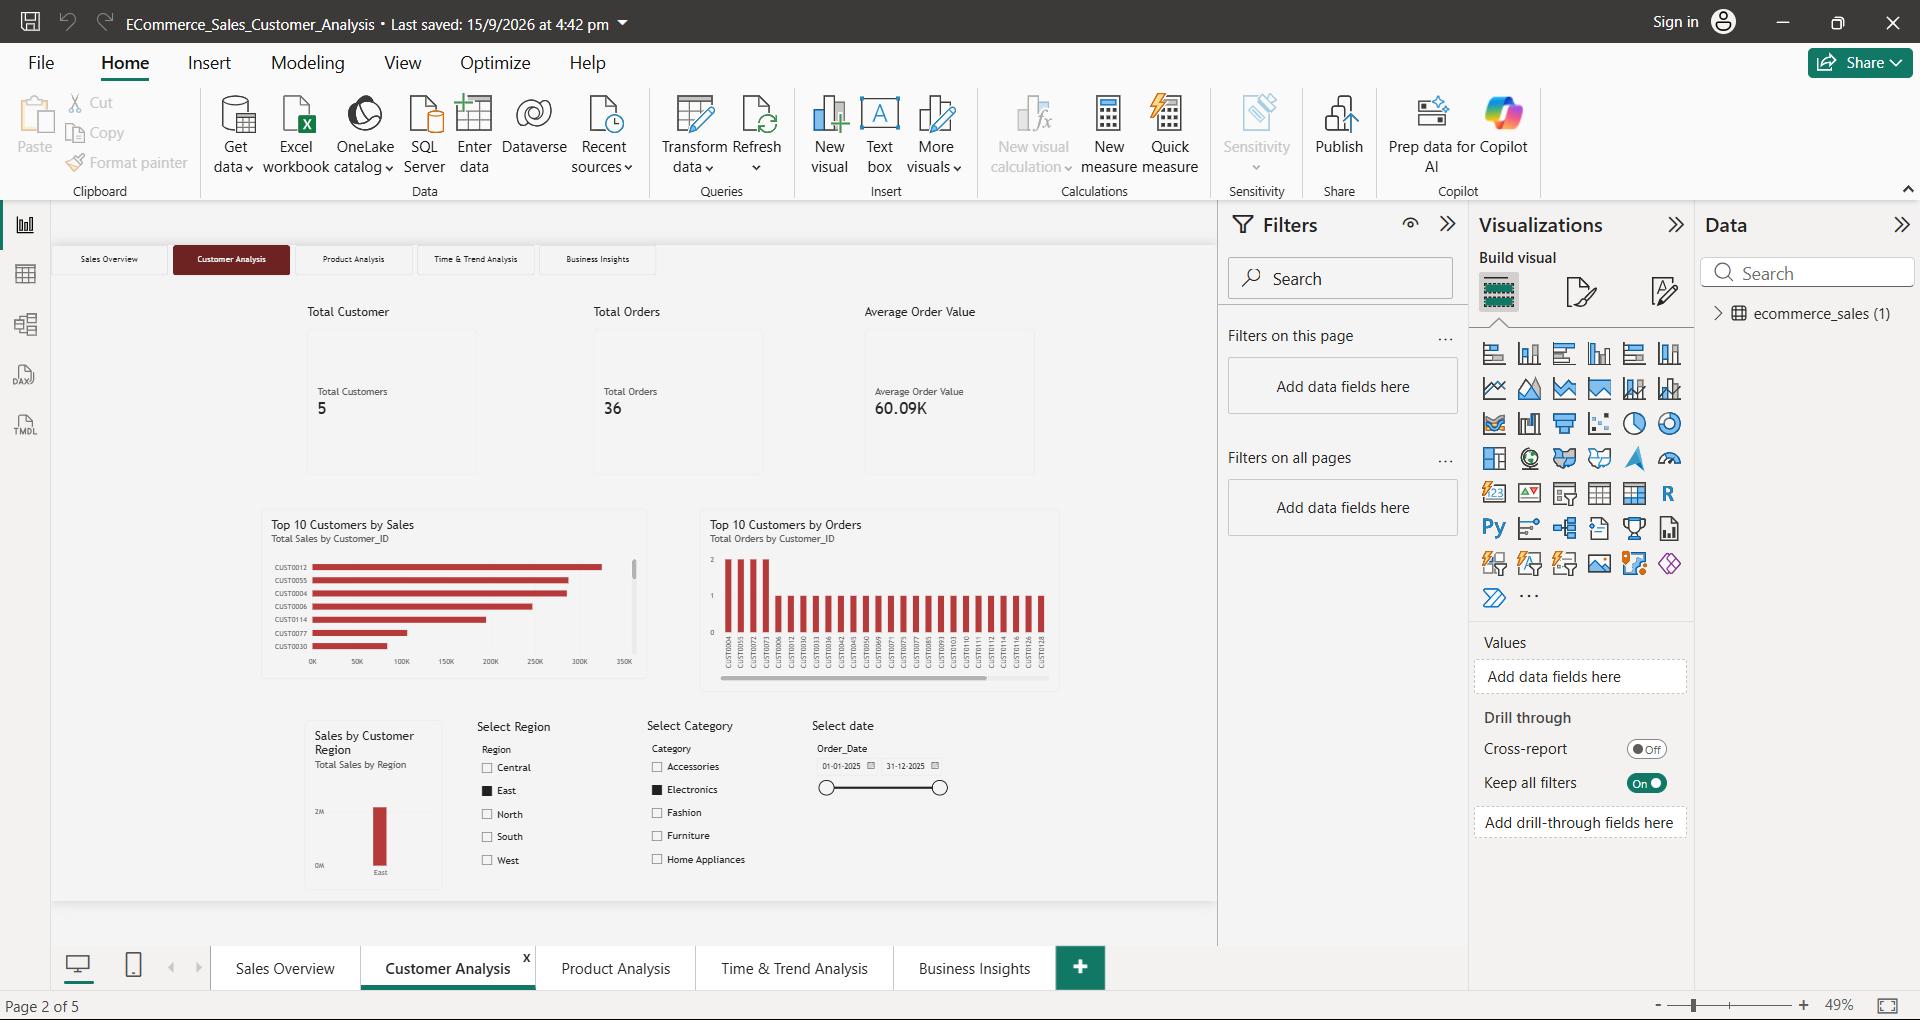

The dashboard page shown, as its layout file describes it:
{"tool":"powerbi","page":{"name":"Customer Analysis","canvas":[1920,1080],"ordinal":1},"visuals":[{"type":"cardVisual","title":"Total Customer ","fields":{"Data":["ecommerce_sales (1).Total Customers"]},"box":[421.2,98.4,280,280],"z":0},{"type":"cardVisual","title":"Total Orders","fields":{"Data":["ecommerce_sales (1).Total Orders"]},"box":[893.7,98.4,280,280],"z":1000},{"type":"cardVisual","title":"Average Order Value","fields":{"Data":["ecommerce_sales (1).Average Order Value"]},"box":[1340.6,98.4,280,280],"z":2000},{"type":"barChart","title":"Top 10 Customers by Sales","fields":{"Category":["ecommerce_sales (1).Customer_ID"],"Y":["ecommerce_sales (1).Total Sales"]},"box":[346.4,434,636,279.9],"z":3000},{"type":"clusteredColumnChart","title":"Top 10 Customers by Orders","fields":{"Category":["ecommerce_sales (1).Customer_ID"],"Y":["ecommerce_sales (1).Total Orders"]},"box":[1069,434,592.8,300.5],"z":4000},{"type":"clusteredColumnChart","title":"Sales by Customer Region","fields":{"Category":["ecommerce_sales (1).Region"],"Y":["ecommerce_sales (1).Total Sales"]},"box":[416.9,782.5,226,280],"z":5000},{"type":"slicer","title":"Select Region","fields":{"Values":["ecommerce_sales (1).Region"]},"box":[701.3,782.5,226,280],"z":6000},{"type":"slicer","title":"Select Category","fields":{"Values":["ecommerce_sales (1).Category"]},"box":[981.4,780.4,226,280],"z":7000},{"type":"slicer","title":"Select date","fields":{"Values":["ecommerce_sales (1).Order_Date"]},"box":[1252.9,780.4,226,280],"z":8000},{"type":"pageNavigator","box":[0,0,1000,50],"z":8001}]}

Visuals, with their boxes on the page's 1920x1080 design canvas (x1, y1, x2, y2). These are canvas units, not pixel positions in the 1920x1020 screenshot, which may show the page scaled, cropped or inside an application window:
"Total Customer " cardVisual: <box>421,98,701,378</box>
"Total Orders" cardVisual: <box>894,98,1174,378</box>
"Average Order Value" cardVisual: <box>1341,98,1621,378</box>
"Top 10 Customers by Sales" barChart: <box>346,434,982,714</box>
"Top 10 Customers by Orders" clusteredColumnChart: <box>1069,434,1662,734</box>
"Sales by Customer Region" clusteredColumnChart: <box>417,782,643,1062</box>
"Select Region" slicer: <box>701,782,927,1062</box>
"Select Category" slicer: <box>981,780,1207,1060</box>
"Select date" slicer: <box>1253,780,1479,1060</box>
pageNavigator: <box>0,0,1000,50</box>
